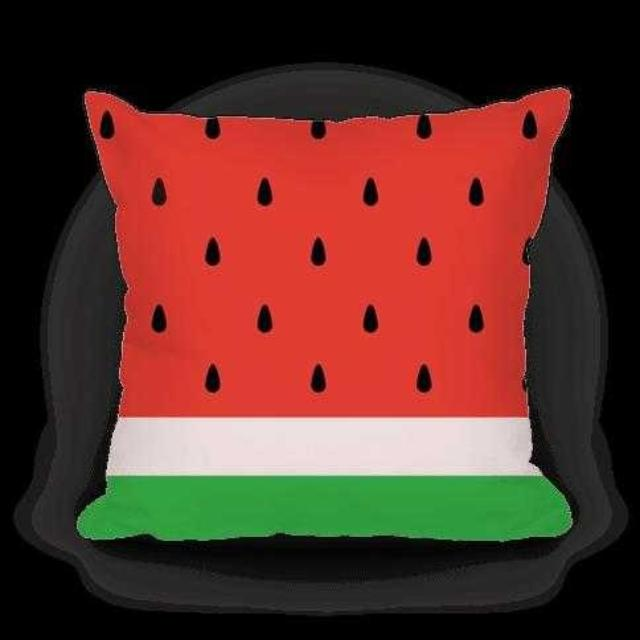pillow: (74, 81, 576, 543)
